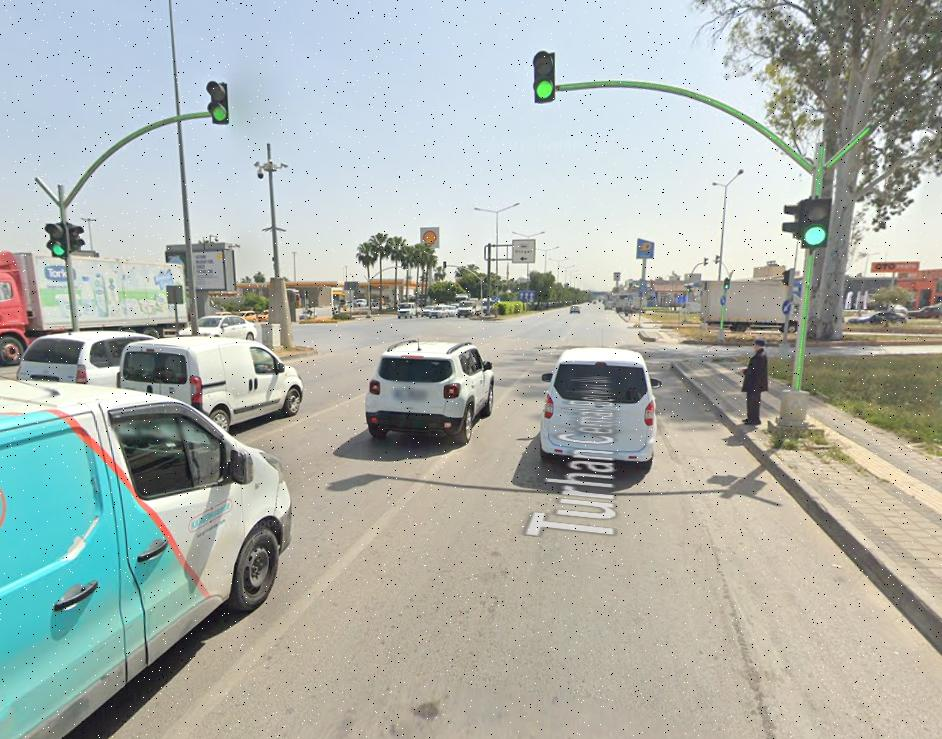greenlight: (799, 198, 833, 252), (534, 50, 556, 105), (207, 78, 229, 123), (44, 219, 67, 259)
